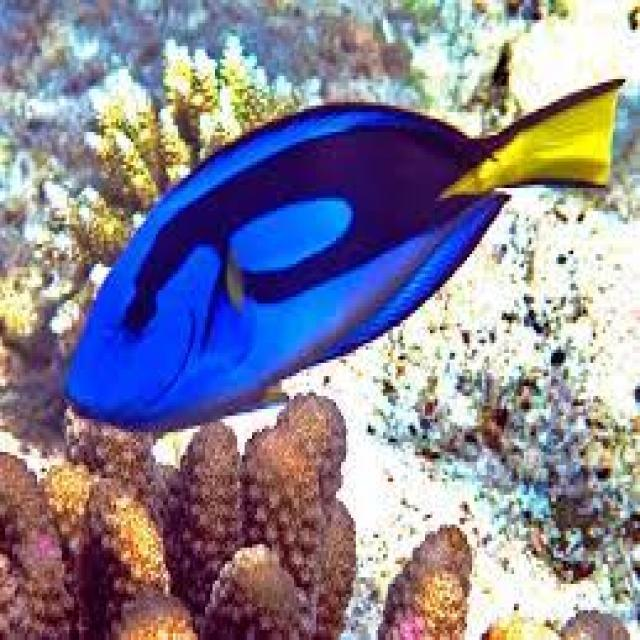TangFish: (56, 72, 624, 430)
